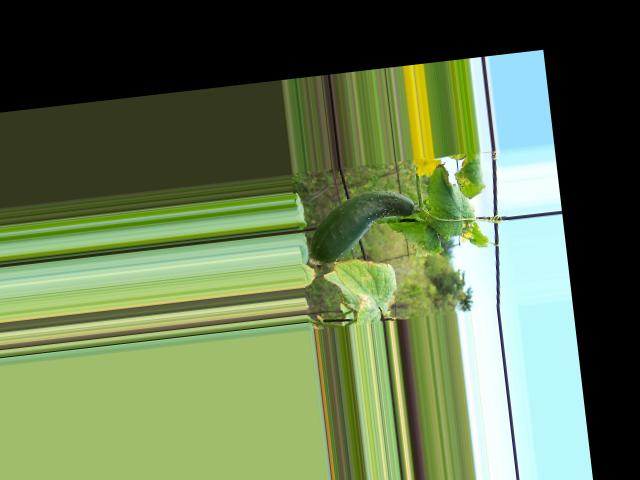cucumber: (305, 187, 421, 265)
